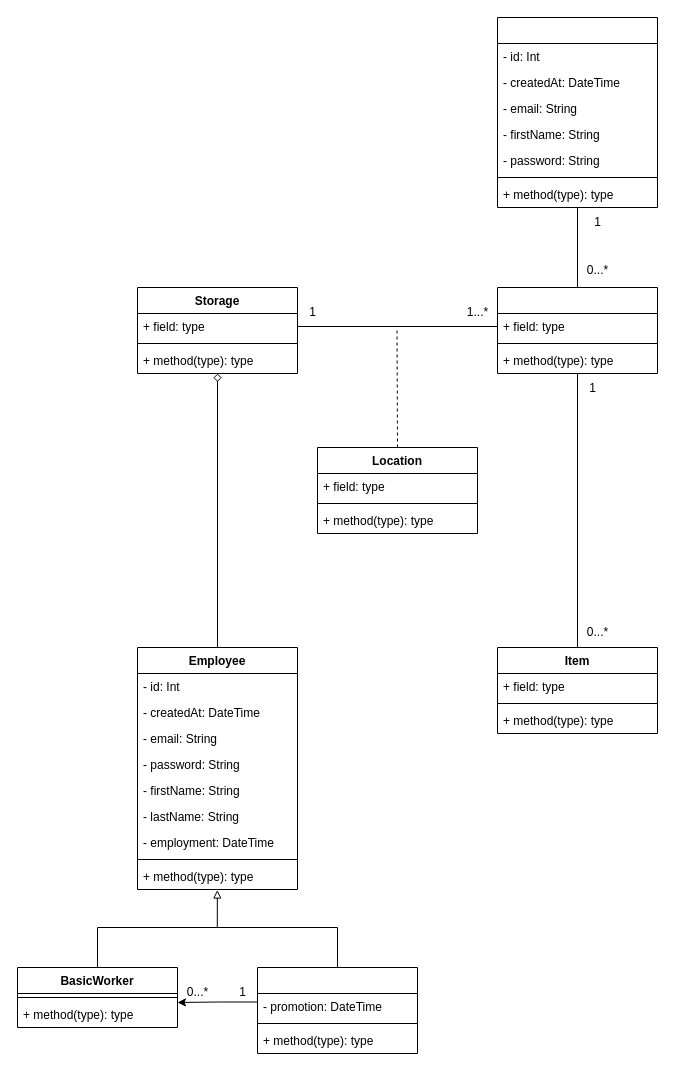
Image size: 675x1074. Some labels were removed from this diagram. The box of each missing label's shape, as (x1, y1, x2, y2) in pixels:
Manager: (256, 966, 418, 1054)
Unit: (496, 286, 658, 374)
User: (496, 16, 658, 208)
